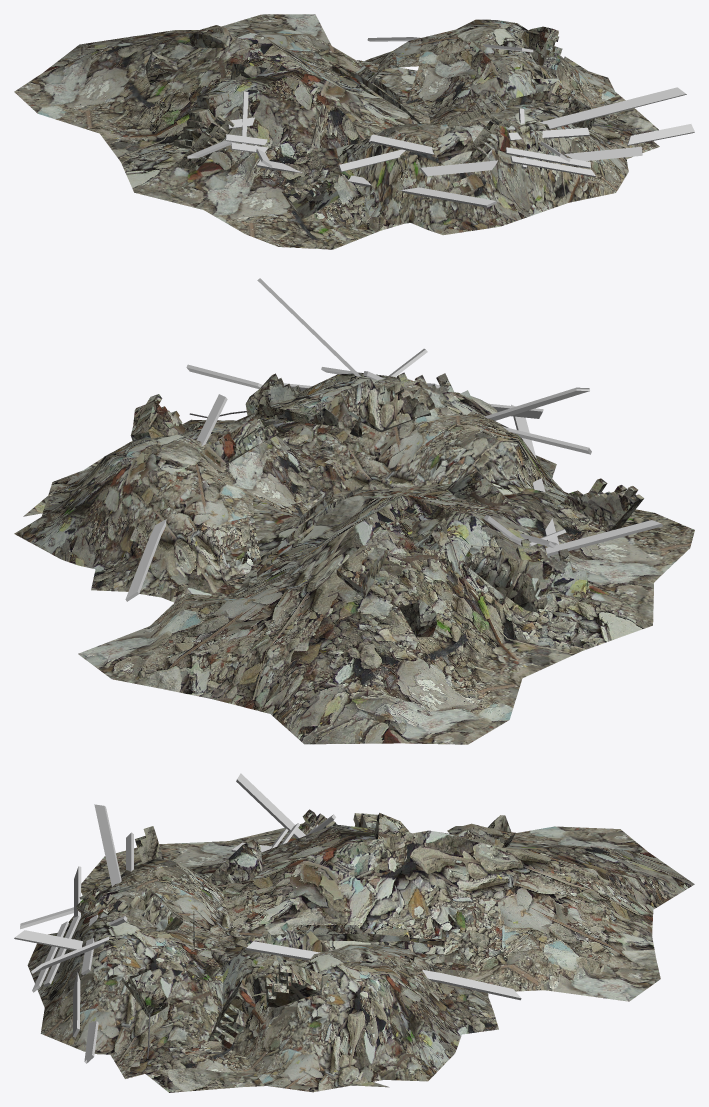
File: ruins_shut1.fbx
3 views of the same model, one above another, from view 1: azimuth 30°, elevation 25°; view 2: azimuth 150°, elevation 25°; view 3: azimuth 270°, elevation 25° (orthographic). The views are drawn at different scales.
Visible parts, largest first — view 1: shutt; view 2: shutt; view 3: shutt.
Boxes of the visible parts, box(x1,y1,x2,y2) form: shutt: box(14, 14, 694, 249); shutt: box(14, 278, 694, 744); shutt: box(14, 773, 694, 1092).
Size of the model in its own units: 1129 by 238 by 1208.
